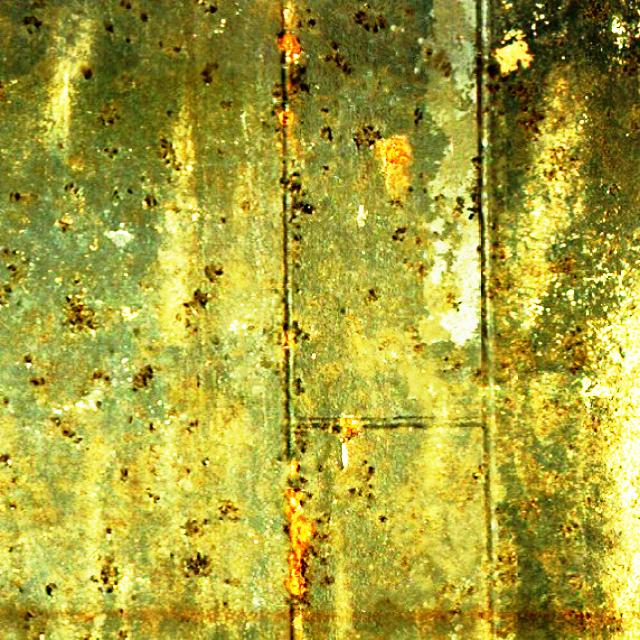Corrosion: (285, 488, 315, 598), (379, 136, 411, 167), (277, 33, 302, 66), (340, 414, 359, 434), (278, 108, 293, 125), (290, 460, 300, 477), (285, 332, 296, 347)
